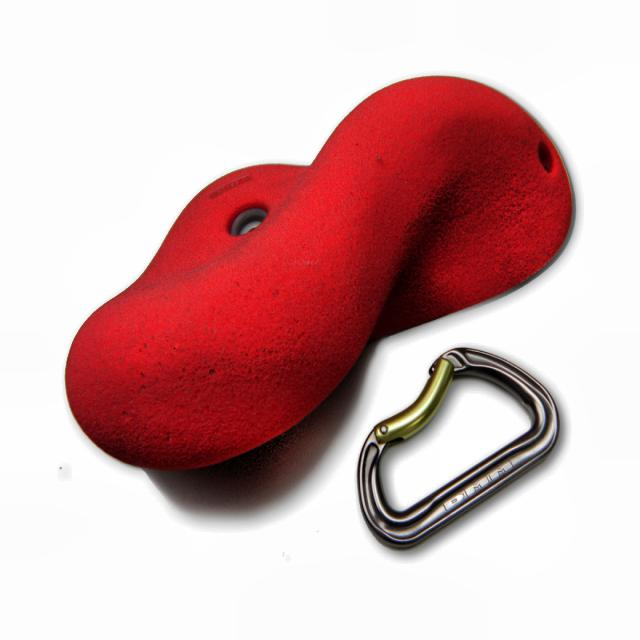Hold: (41, 39, 571, 555)
